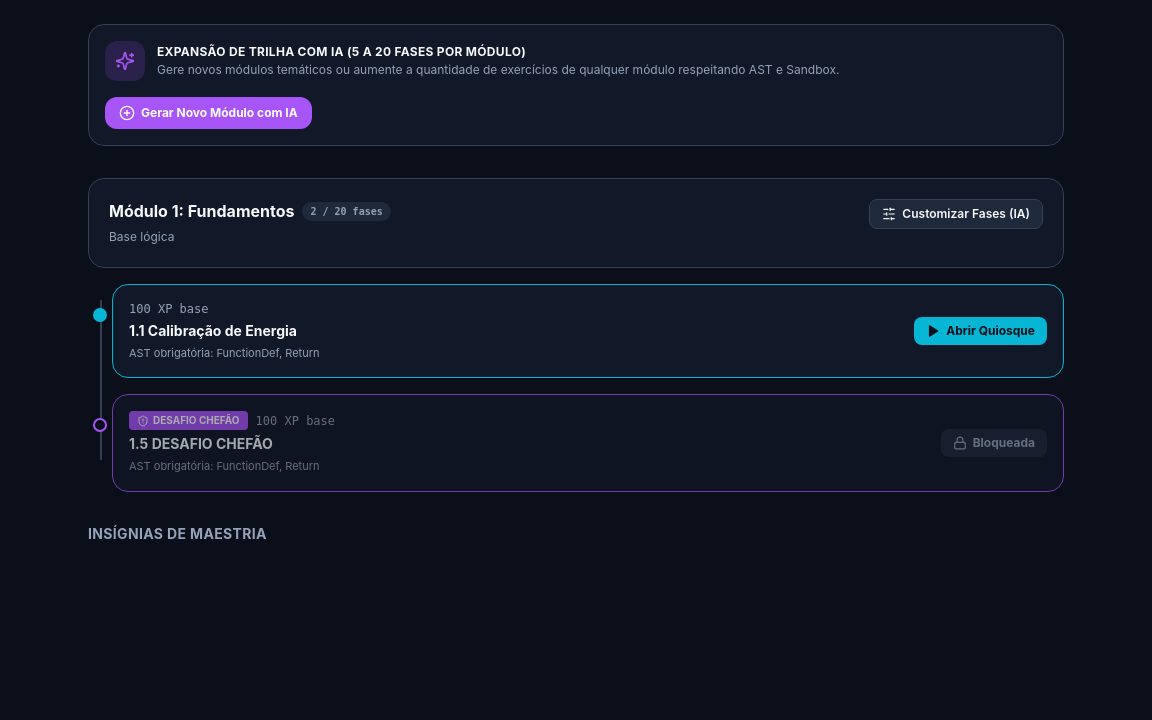
LogicKiosk UI & Stores › impõe limites de 5 a 20 exercícios e abre modal gerador de IA no SkillTreeGraph
Click the button "Gerar Novo Módulo com IA": (208, 113) [105,97,312,129]
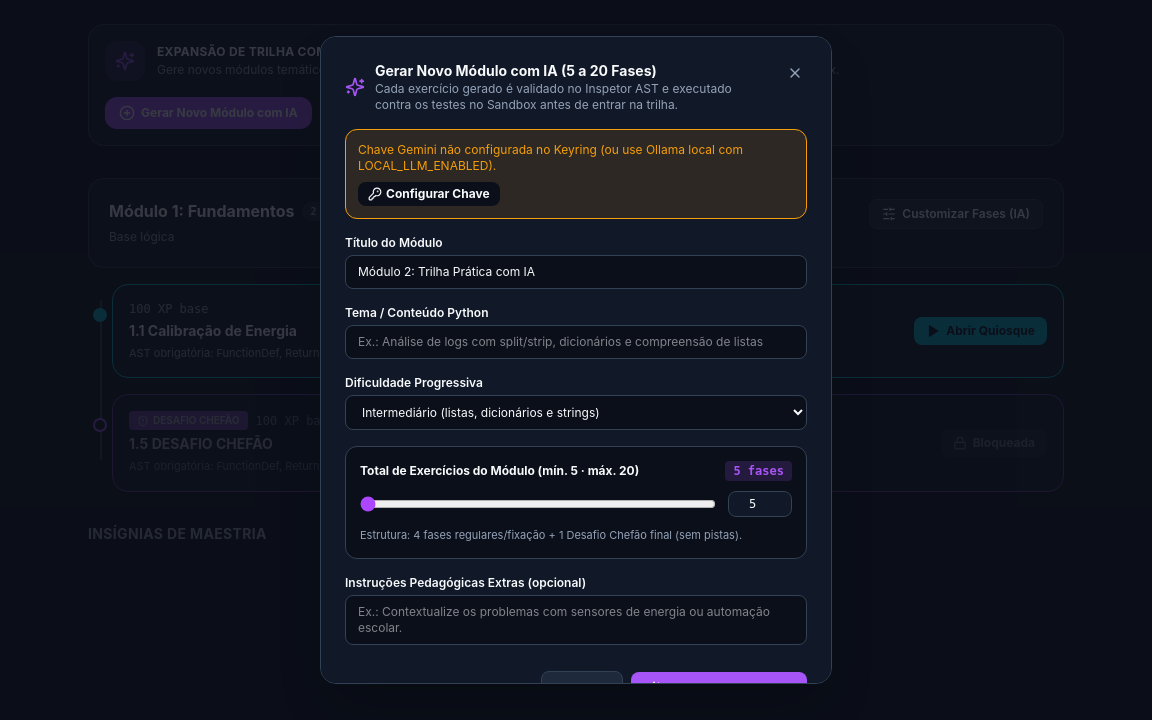
Expected: the dialog "Gerar Novo Módulo com IA" is shown
Replace the text in the number field named "número exato de exercícios" with "25": (760, 504) [728,491,792,517]
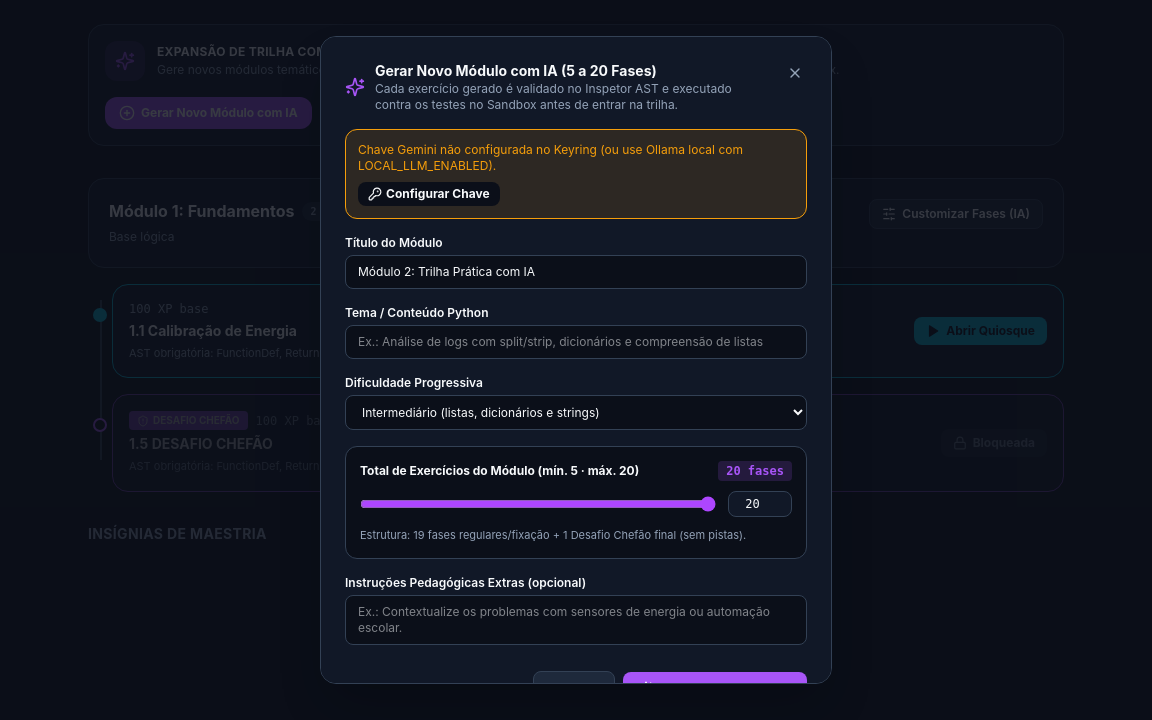
Expected: the number field named "número exato de exercícios" holds "20"
Replace the text in the number field named "número exato de exercícios" with "1": (760, 504) [728,491,792,517]
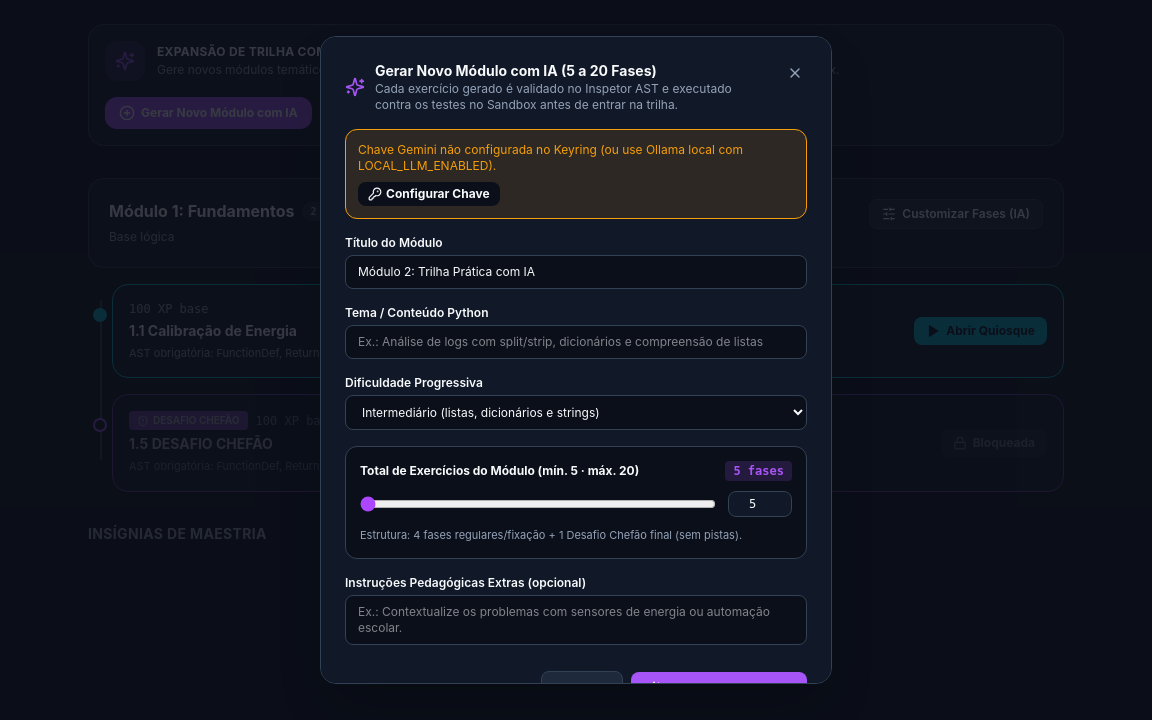
Expected: the number field named "número exato de exercícios" holds "5", [728,491,792,517]
